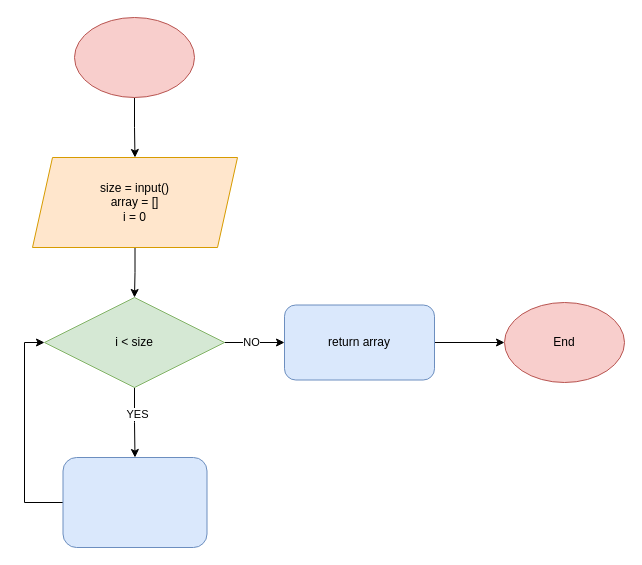
Some shapes in this 642 by 565 pixel diagram are drawn without their labels. Each missing label, with the centre of its shape:
"arr[i] = input() i = i + 1" belongs at [134,502].
"Start" belongs at [134,57].
